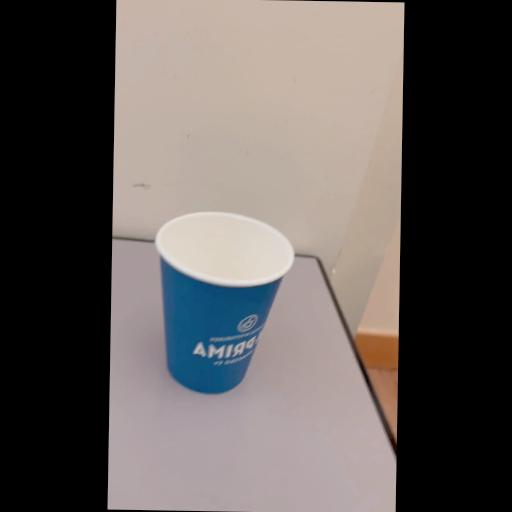lp_paper_cup: (154, 212, 294, 396)
